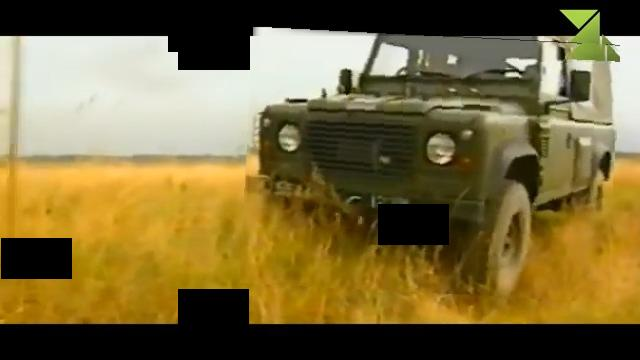MIL_HMMWV: (244, 31, 618, 297)
